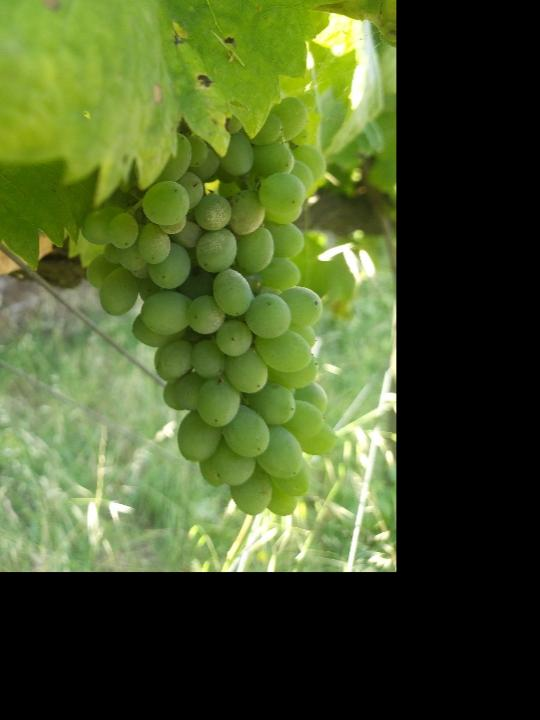grape: (74, 93, 343, 524)
